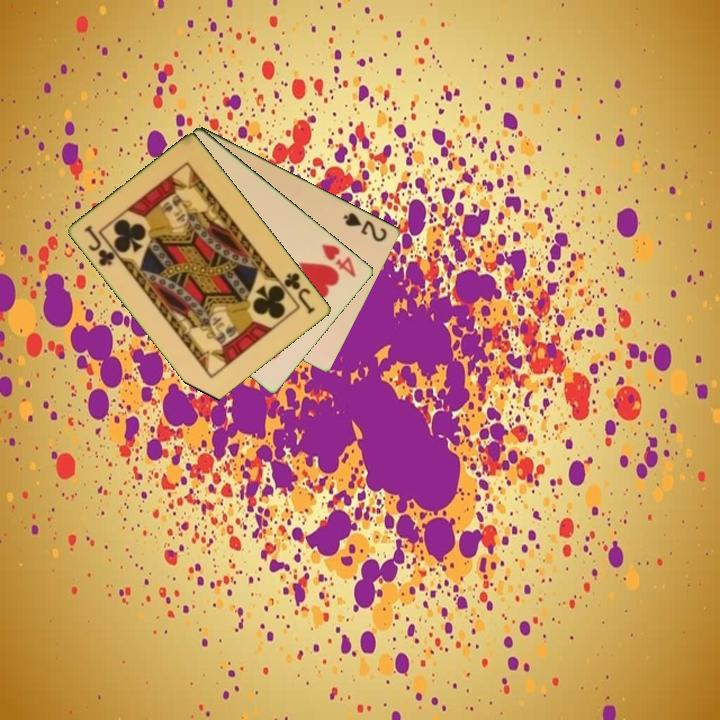2s: (340, 209, 390, 245)
4h: (318, 240, 360, 280)
Jc: (280, 269, 318, 317), (81, 221, 118, 269)
